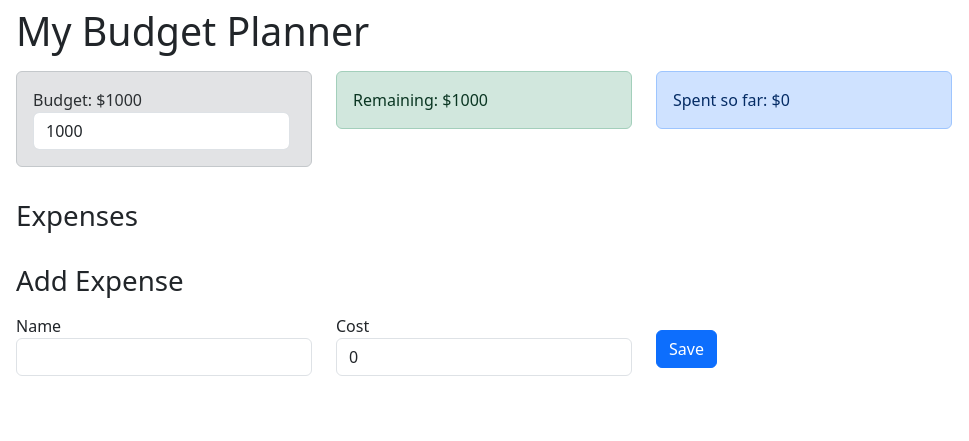
Scenario: My Budget Tracker › expense creation positive
The width and height of the screenshot is (969, 441).
Check: the text "Remaining: $1000" is shown, box [353,89,488,111]
Check: the text "Budget: $1000" is shown, box [33,88,142,112]
// Add expense
In the field with test id "name-input": (164, 357) [16,338,312,376], type "Groceries"
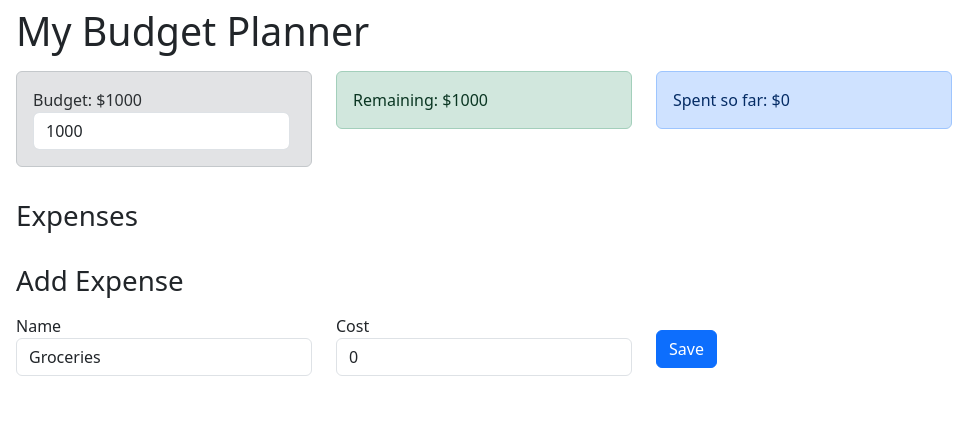
Replace the text in the field with test id "cost-input" with "50": (484, 357) [336,338,632,376]
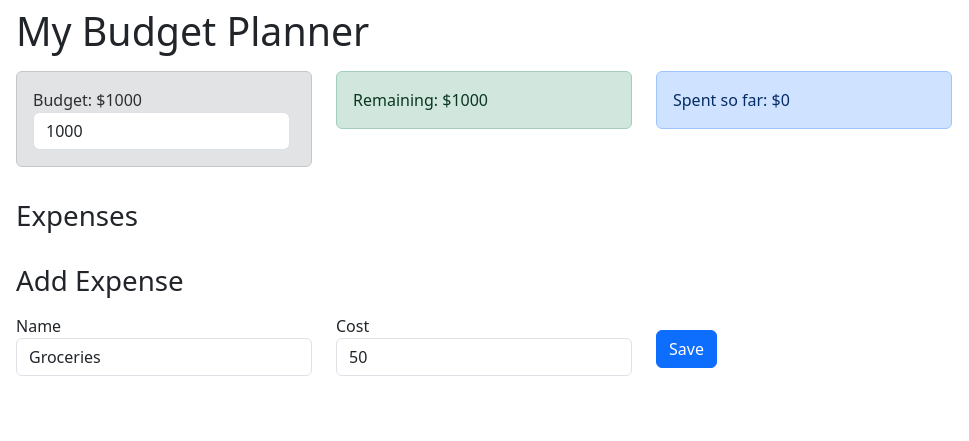
Click the button with test id "save-button": (686, 349) [656,330,717,368]
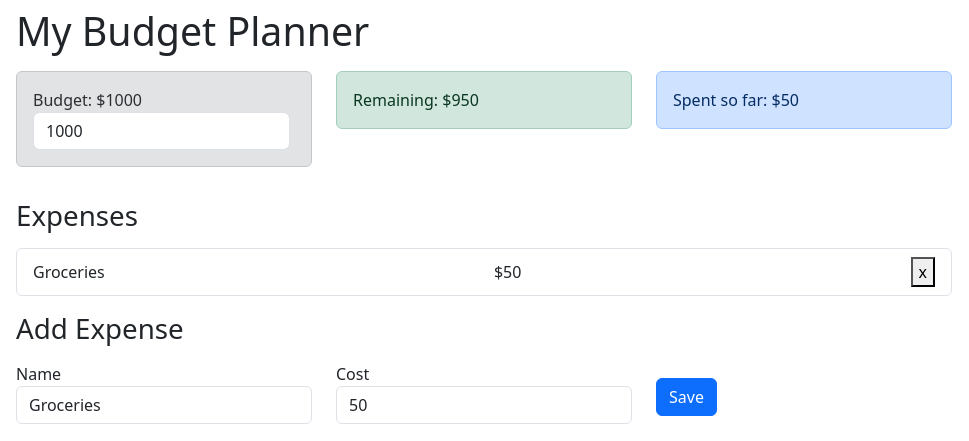
Check: the text "Groceries" is shown, box [33,260,105,284]
Check: the text "$50" is shown, box [494,260,521,284]
Check: the text "Remaining: $950" is shown, box [353,89,479,111]
